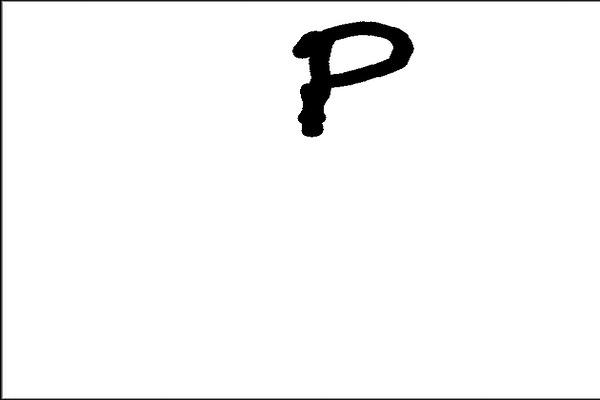P: (282, 11, 423, 141)
